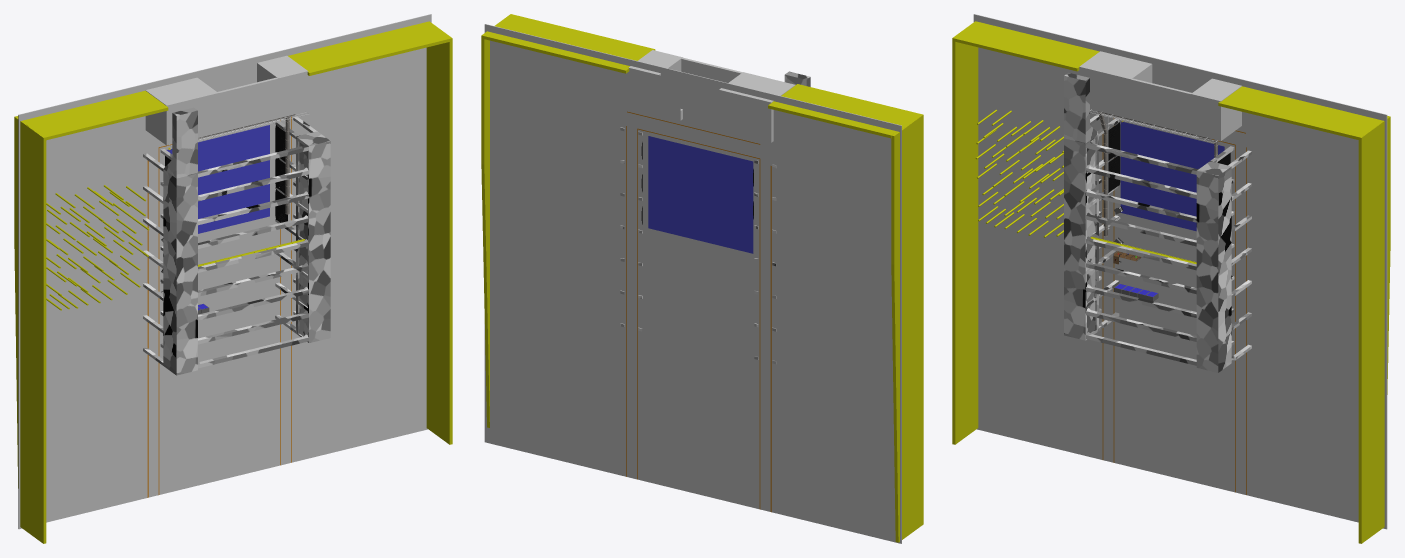
File: Scale.obj
3 views of the same model, side by side, from view 1: azimuth 30°, elevation 25°; view 2: azimuth 150°, elevation 25°; view 3: azimuth 330°, elevation 25° (orthographic).
Parts seen in each view (by area): view 1: Plane, Cube.010, Cube.025, Cube.011, Cube.001, Cube.023, Cube.005, Cube.024, Cube.009, Cube.004, Plane.001, modular_airduct_rectangular_01_tripple_01; view 2: Plane, Cube.010, Cube.024, Cube.005, Cube.009, Cube.004, Cube.025, Cube.011; view 3: Plane, Cube.025, Cube.010, Cube.011, Cube.001, Cube.023, Cube.005, Cube.024, Cube.009, Cube.004, Plane.001, modular_airduct_rectangular_01_tripple_01.
Part boxes in pixels (<box>): Plane: <box>18,14,431,529</box>; Cube.010: <box>14,116,46,543</box>; Cube.025: <box>426,21,452,444</box>; Cube.011: <box>143,107,197,375</box>; Cube.001: <box>275,116,330,342</box>; Cube.023: <box>198,144,308,368</box>; Cube.005: <box>216,55,308,133</box>; Cube.024: <box>288,21,451,75</box>; Cube.009: <box>18,90,168,140</box>; Cube.004: <box>145,77,218,145</box>; Plane.001: <box>165,125,288,228</box>; modular_airduct_rectangular_01_tripple_01: <box>198,114,295,214</box>; Plane: <box>484,24,901,543</box>; Cube.010: <box>891,115,923,542</box>; Cube.024: <box>481,14,655,73</box>; Cube.005: <box>628,50,742,120</box>; Cube.009: <box>768,84,922,138</box>; Cube.004: <box>719,72,795,142</box>; Cube.025: <box>481,14,510,427</box>; Cube.011: <box>754,71,810,364</box>; Plane: <box>973,14,1387,529</box>; Cube.025: <box>1358,116,1390,543</box>; Cube.010: <box>952,21,978,444</box>; Cube.011: <box>1064,72,1119,340</box>; Cube.001: <box>1196,146,1251,372</box>; Cube.023: <box>1086,141,1198,365</box>; Cube.005: <box>1129,78,1241,141</box>; Cube.024: <box>1218,86,1389,140</box>; Cube.009: <box>953,21,1099,71</box>; Cube.004: <box>1079,51,1152,118</box>; Plane.001: <box>1108,122,1230,192</box>; modular_airduct_rectangular_01_tripple_01: <box>1098,111,1217,236</box>.
Bounding box in the file's own units: 84.15 × 80.66 × 14.02.
